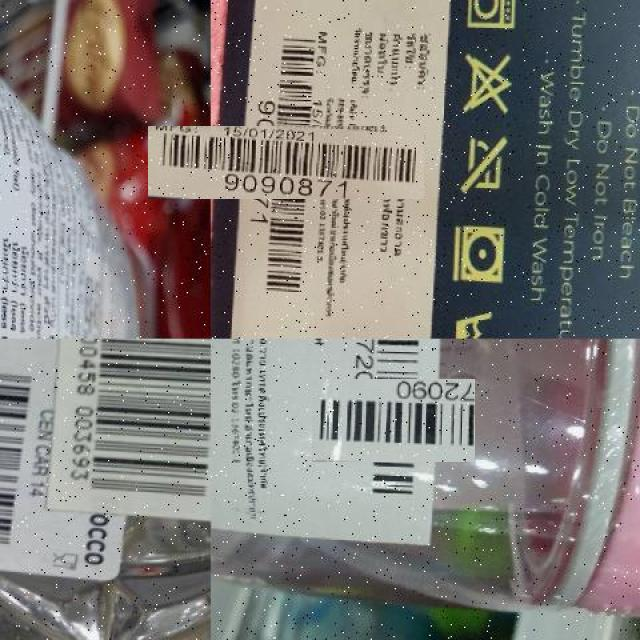Barcode: (198, 74, 374, 250), (46, 338, 210, 522), (0, 339, 79, 569), (332, 359, 455, 482)
